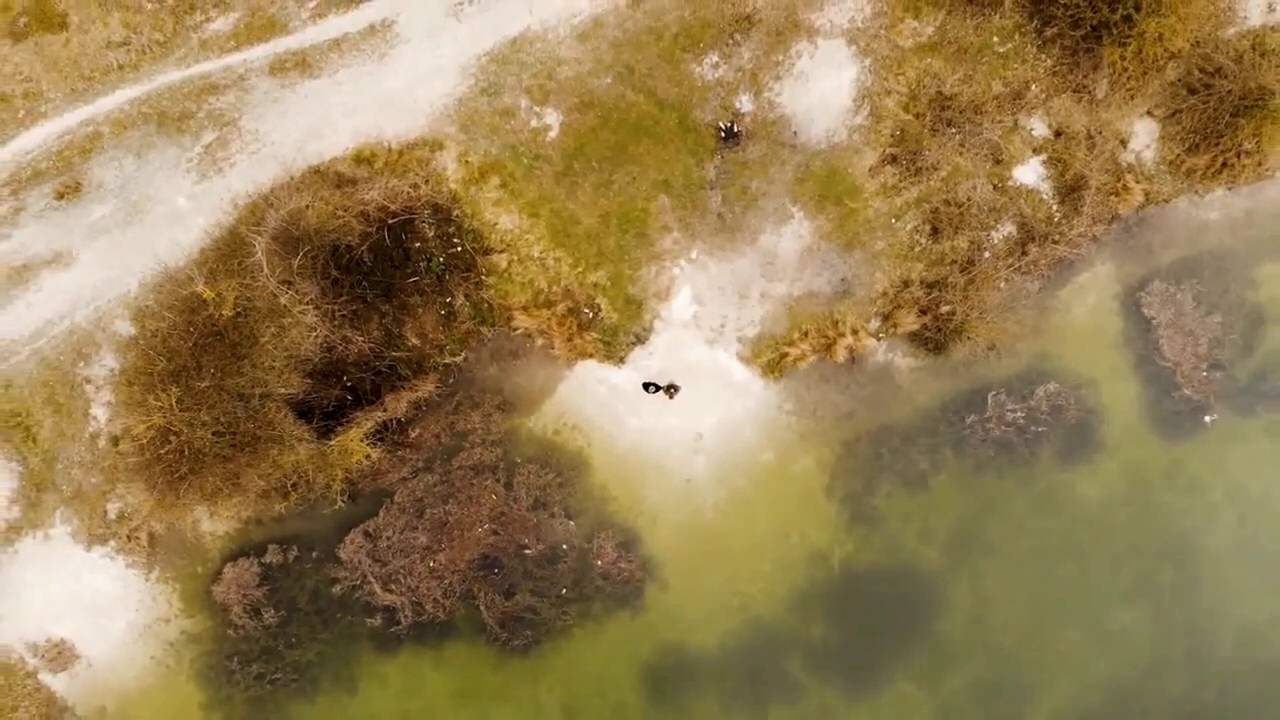insan: (658, 379, 683, 406), (639, 374, 660, 400)
